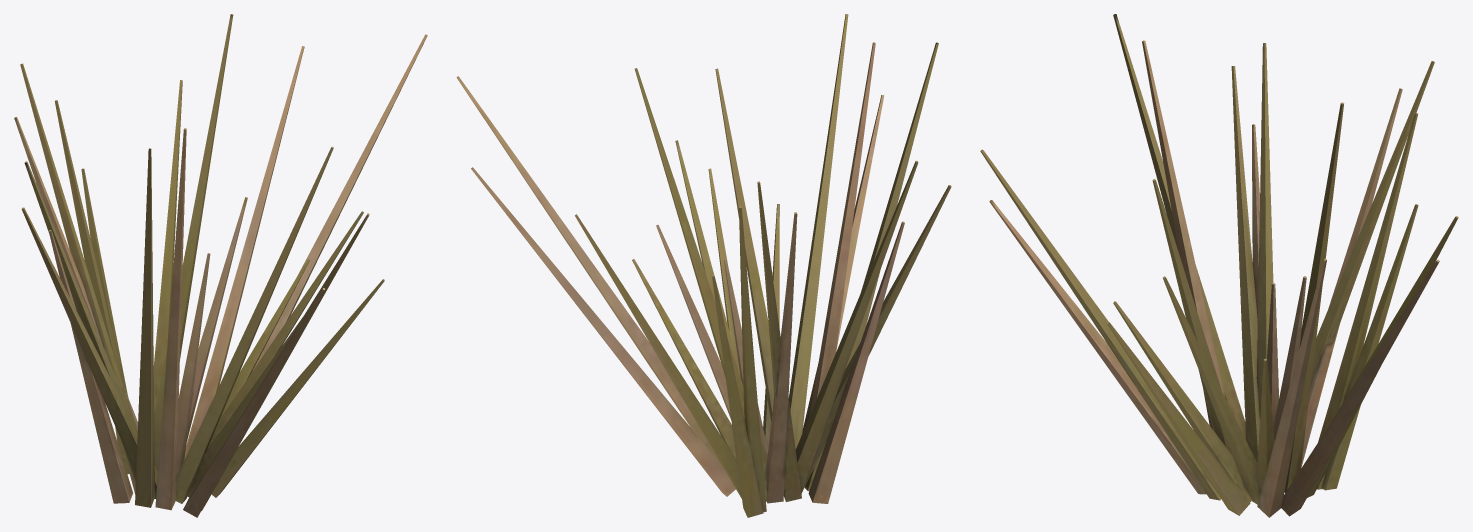
The model's file is dry_grass_a.glb.
3 views of the same model, side by side, from view 1: azimuth 30°, elevation 25°; view 2: azimuth 150°, elevation 25°; view 3: azimuth 270°, elevation 25° (orthographic). The views are drawn at different scales.
Visible parts, largest first — view 1: DryGrass_Mesh; view 2: DryGrass_Mesh; view 3: DryGrass_Mesh.
Boxes of the visible parts, left/top/right/bottom form: DryGrass_Mesh: left=14, top=14, right=427, bottom=517; DryGrass_Mesh: left=456, top=14, right=951, bottom=517; DryGrass_Mesh: left=980, top=14, right=1458, bottom=517.
Size of the model in its own units: 0.6203 by 0.5635 by 0.5496.
1 material, 1 textured.
